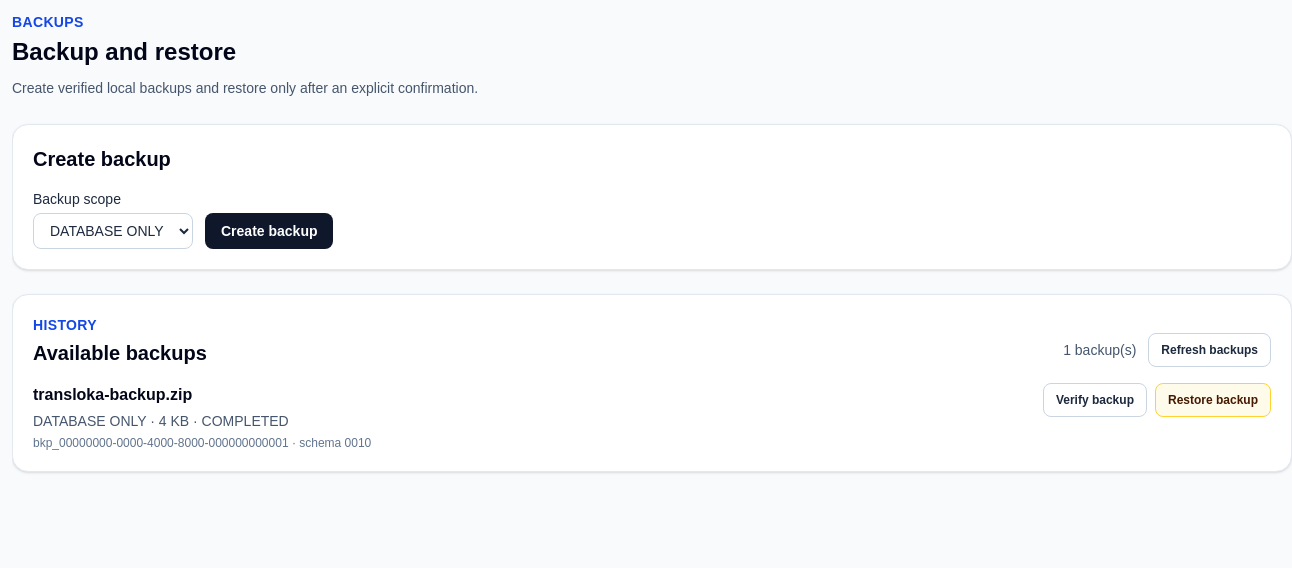
BackupPanel › verifies a listed backup
Expected: the text "transloka-backup.zip" is shown, left=33, top=386, right=192, bottom=403
Click the button "Verify backup".
click(1095, 400)  # box left=1043, top=383, right=1147, bottom=417
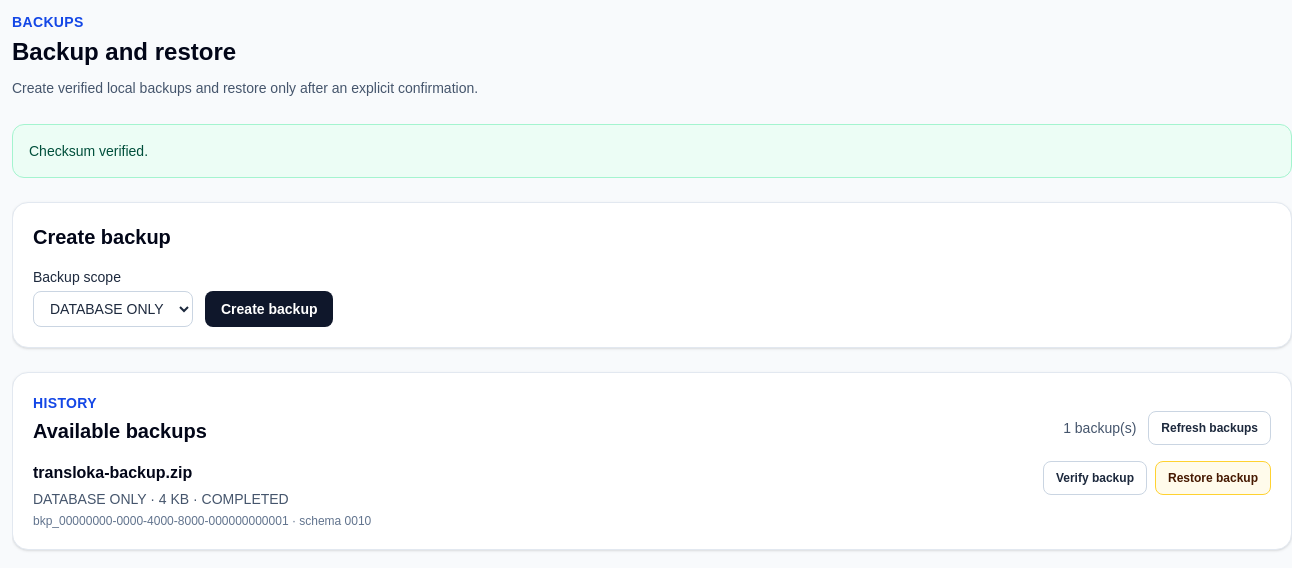
Now the text "Checksum verified." is shown, box left=12, top=124, right=1291, bottom=178
